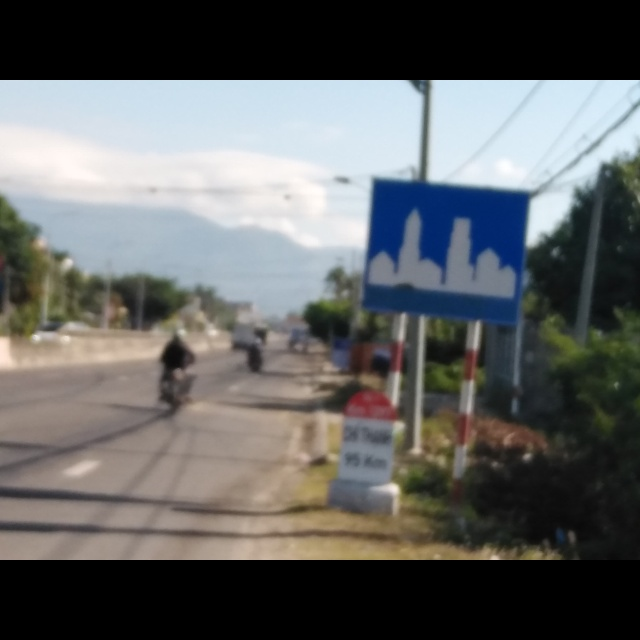Khu đông dân cư: (361, 173, 527, 321)
